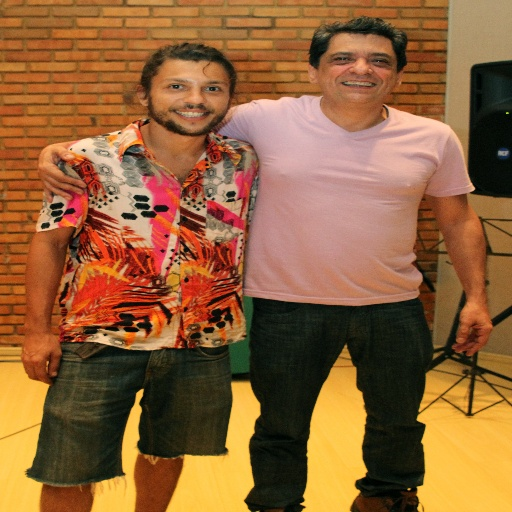hand: (35, 139, 88, 205), (450, 300, 496, 358), (14, 313, 49, 388)
